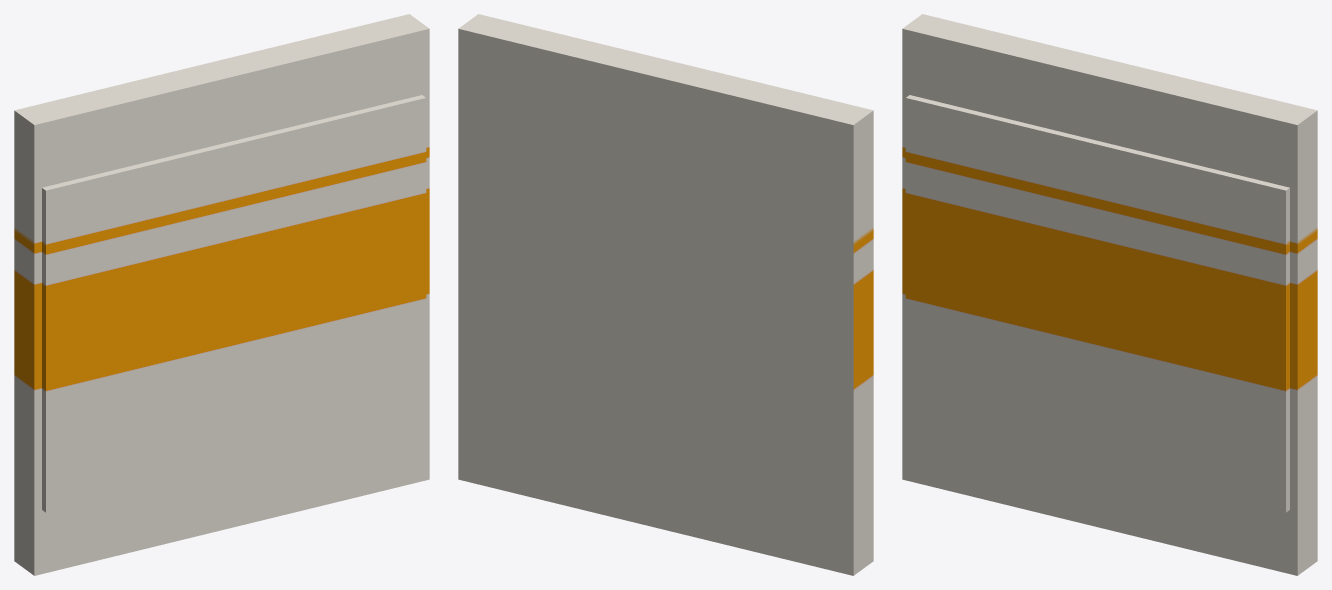
Rendered from wall.fbx.
3 views of the same model, side by side, from view 1: azimuth 30°, elevation 25°; view 2: azimuth 150°, elevation 25°; view 3: azimuth 330°, elevation 25° (orthographic).
Parts seen in each view (by area): view 1: Wall; view 2: Wall; view 3: Wall.
Boxes of the visible parts, x1,y1,x2,y2 form: Wall: (14,14,429,575); Wall: (458,14,873,575); Wall: (902,14,1317,575).
Size of the model in its own units: 426 by 465 by 45.11.
